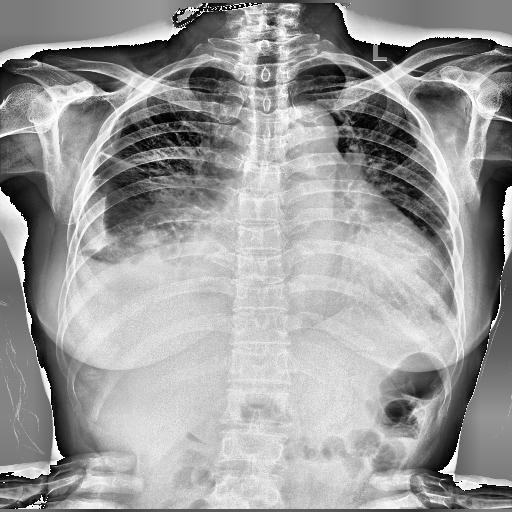0- Aortic enlargement: (270, 104, 338, 177), (268, 96, 346, 159), (280, 99, 340, 149)
10- Pleural effusion: (60, 176, 222, 311), (64, 254, 156, 306), (66, 258, 170, 296)
11- Pleural thickening: (76, 171, 110, 252)
13- Pulmonary fibrosis: (94, 148, 148, 177), (93, 149, 149, 173)
3- Cardiomegaly: (180, 182, 446, 298), (198, 204, 448, 316), (200, 210, 446, 316)
7- Lung Opacity: (102, 155, 238, 267), (78, 186, 218, 274), (61, 184, 183, 255)
